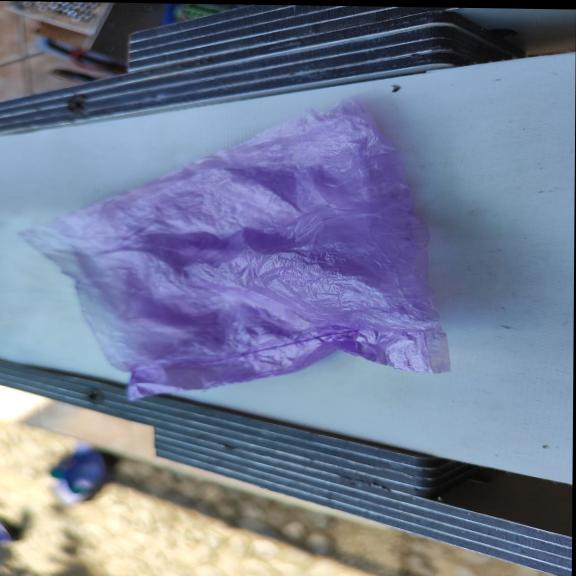Plastik: (18, 91, 456, 405)
